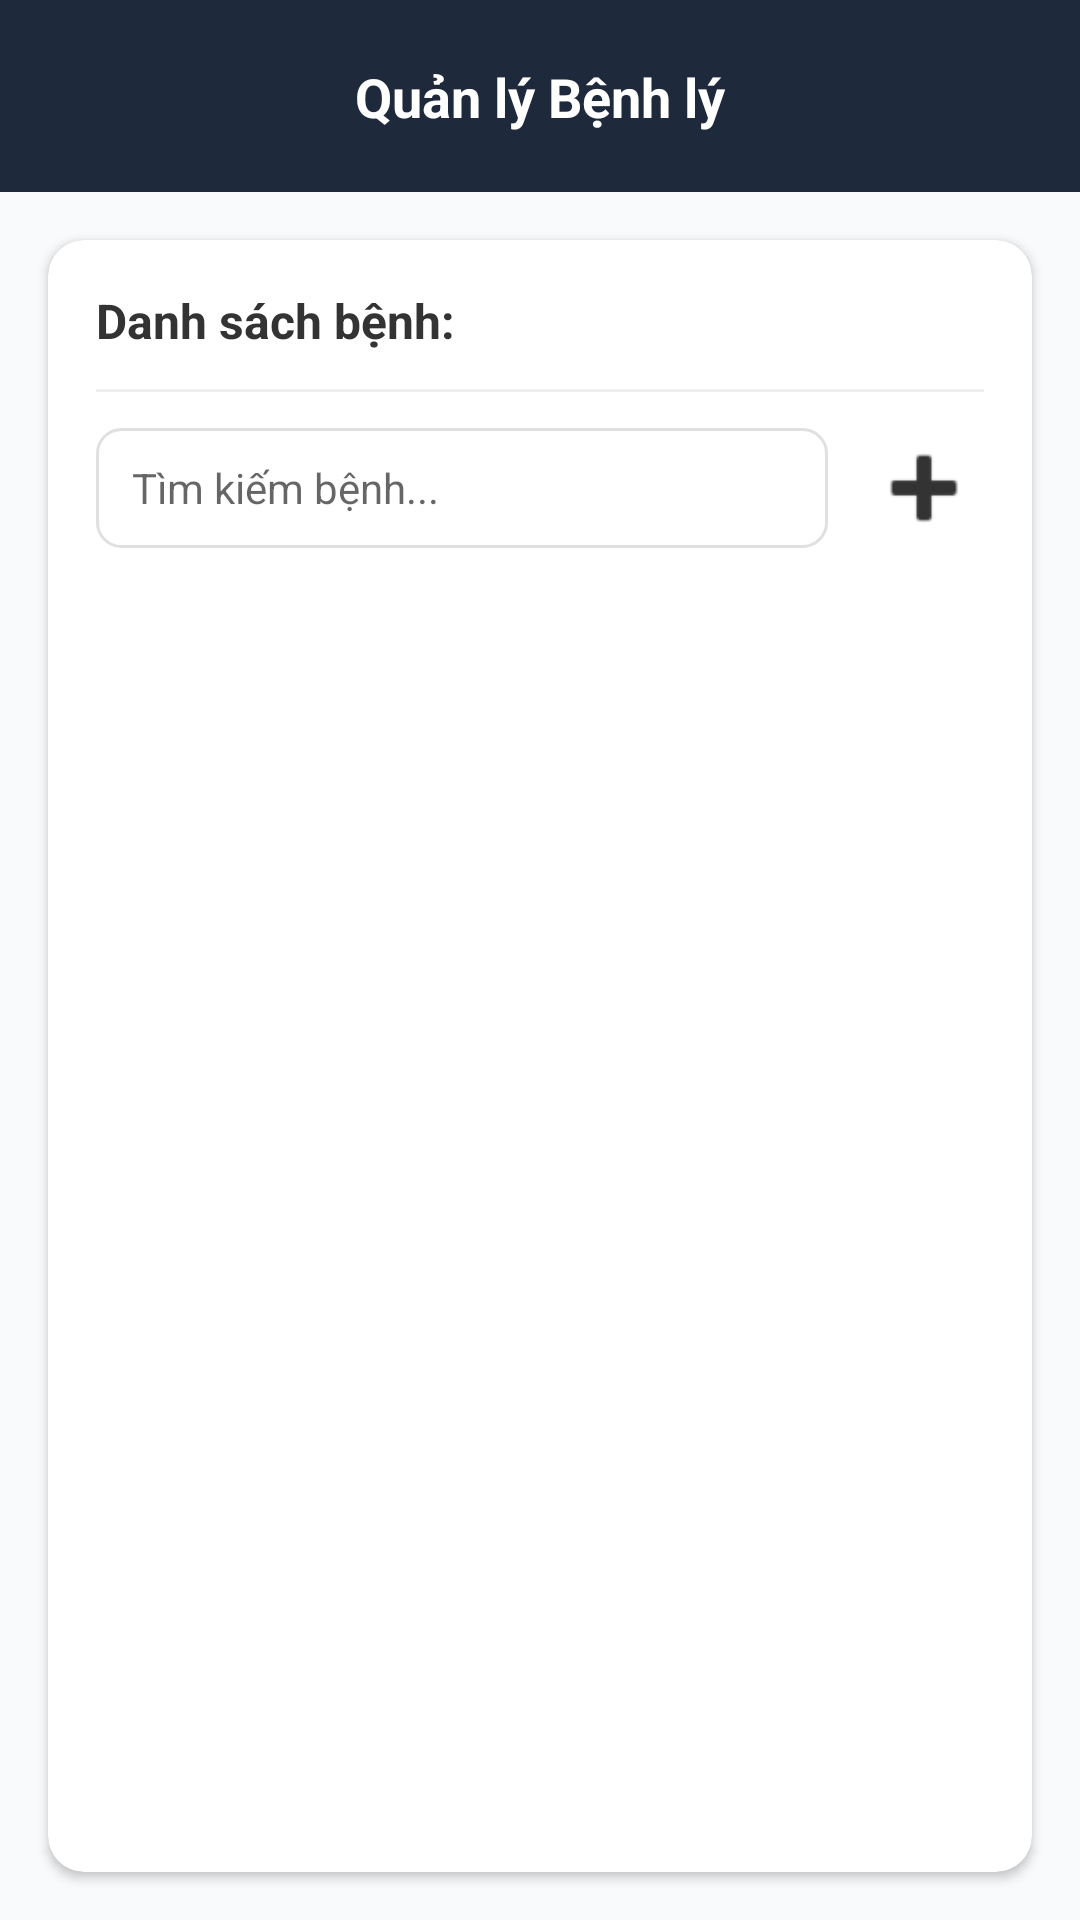

Locate icon controls on the screen. Image size 1080x1920, boxes as (x1, y1, x2, y2).
add: (890, 454, 958, 522)
